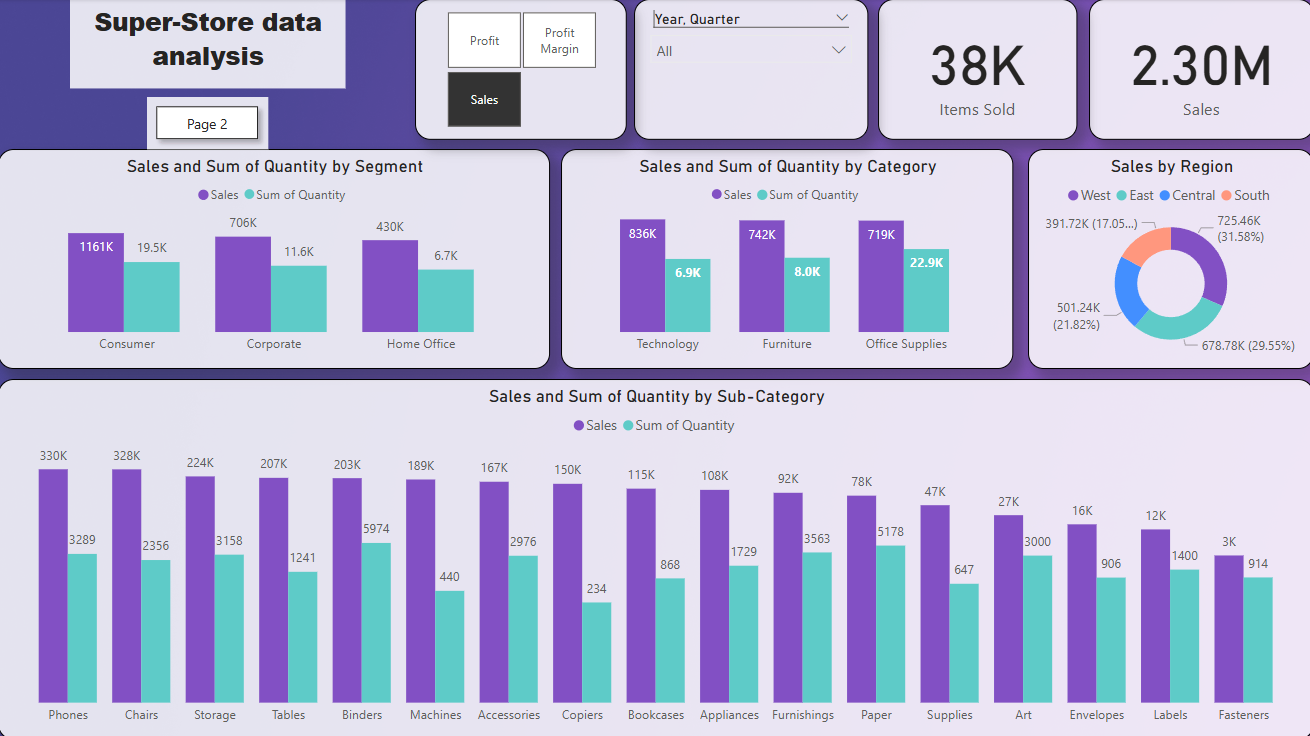

The dashboard page shown, as its layout file describes it:
{"tool":"powerbi","page":{"name":"Page 1","canvas":[1280,720],"ordinal":0},"visuals":[{"type":"card","fields":{"Values":["Sample - Superstore.SalesSum"]},"box":[1061.2,0,218.8,137.1],"z":0},{"type":"card","fields":{"Values":["Sum(Sample - Superstore.Quantity)"]},"box":[855.9,0,193.6,137.1],"z":1000},{"type":"clusteredColumnChart","fields":{"Y":["Sample - Superstore.SalesSum","Sum(Sample - Superstore.Quantity)"],"Category":["Sample - Superstore.Segment"]},"box":[0,145.9,536.9,214],"z":2000},{"type":"clusteredColumnChart","fields":{"Y":["Sample - Superstore.SalesSum","Sum(Sample - Superstore.Quantity)"],"Category":["Sample - Superstore.Category"]},"box":[547.6,145.9,439.6,214],"z":3000},{"type":"donutChart","fields":{"Y":["Sample - Superstore.SalesSum"],"Category":["Sample - Superstore.Region"]},"box":[1001.8,145.9,278.2,214],"z":4000},{"type":"clusteredColumnChart","fields":{"Y":["Sample - Superstore.SalesSum","Sum(Sample - Superstore.Quantity)"],"Category":["Sample - Superstore.Sub-Category"]},"box":[0,369.6,1280,351.1],"z":5000},{"type":"slicer","fields":{"Values":["Sample - Superstore.Order Date.Variation.Date Hierarchy.Year","Sample - Superstore.Order Date.Variation.Date Hierarchy.Quarter"]},"box":[618.6,0,227.6,137.1],"z":6000},{"type":"slicer","fields":{"Values":["Parameter1.Parameter1"]},"box":[405.6,0,206.2,137.1],"z":7000},{"type":"pageNavigator","box":[144.9,95.3,117.7,50.6],"z":8000},{"type":"textbox","box":[70,0,268.4,86.6],"z":8001}]}

Visuals, with their boxes in screenshot pixels (x1, y1, x2, y2), scaled from the page's 1280x720 canvas onto the 1310x736 screenshot:
card - Sample - Superstore.SalesSum: [1086,0,1309,140]
card - Sum(Sample - Superstore.Quantity): [876,0,1074,140]
clusteredColumnChart - Sample - Superstore.SalesSum x Sum(Sample - Superstore.Quantity): [0,149,549,368]
clusteredColumnChart - Sample - Superstore.SalesSum x Sum(Sample - Superstore.Quantity): [560,149,1010,368]
donutChart - Sample - Superstore.SalesSum x Sample - Superstore.Region: [1025,149,1309,368]
clusteredColumnChart - Sample - Superstore.SalesSum x Sum(Sample - Superstore.Quantity): [0,378,1309,735]
slicer - Sample - Superstore.Order Date.Variation.Date Hierarchy.Year x Sample - Superstore.Order Date.Variation.Date Hierarchy.Quarter: [633,0,866,140]
slicer - Parameter1.Parameter1: [415,0,626,140]
pageNavigator: [148,97,269,149]
textbox: [72,0,346,89]
